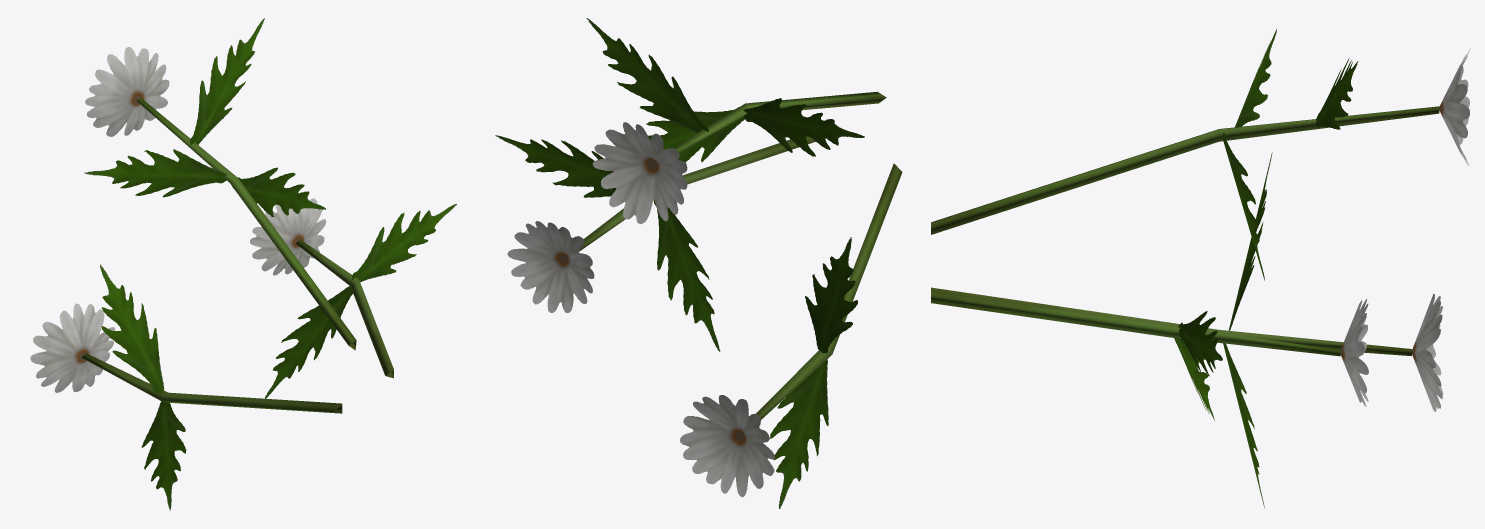
File: Flower1.FBX
3 views of the same model, side by side, from view 1: azimuth 30°, elevation 25°; view 2: azimuth 150°, elevation 25°; view 3: azimuth 270°, elevation 25° (orthographic). The views are drawn at different scales.
Parts seen in each view (by area): view 1: Flower1; view 2: Flower1; view 3: Flower1.
Boxes of the visible parts, box(x1,y1,x2,y2) form: Flower1: box(30, 18, 456, 510); Flower1: box(495, 18, 902, 508); Flower1: box(931, 29, 1469, 508).
Size of the model in its own units: 0.883 by 0.9912 by 0.9043.
